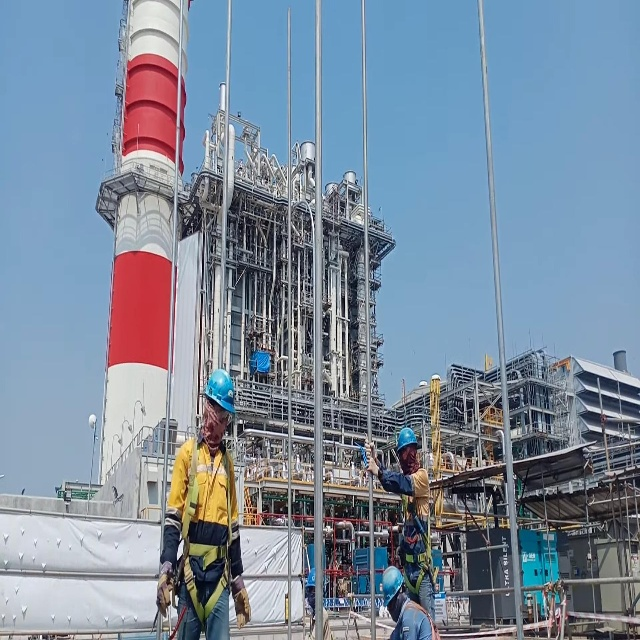Arnes_seguridad: (172, 429, 233, 632), (400, 487, 433, 599)
